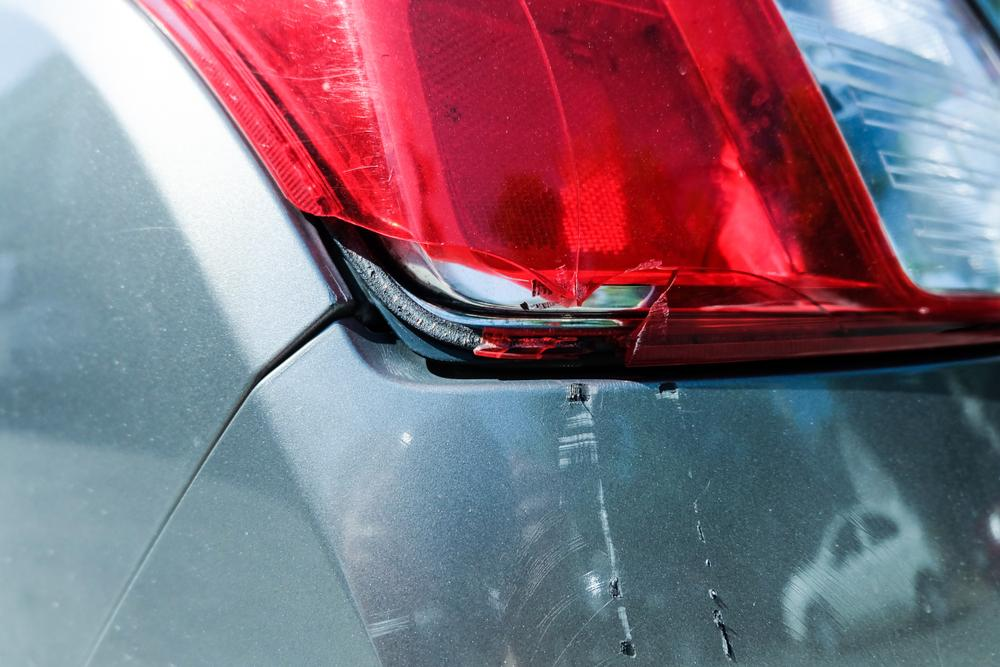lamp broken: (130, 0, 1000, 371)
scratch: (558, 377, 739, 662)
